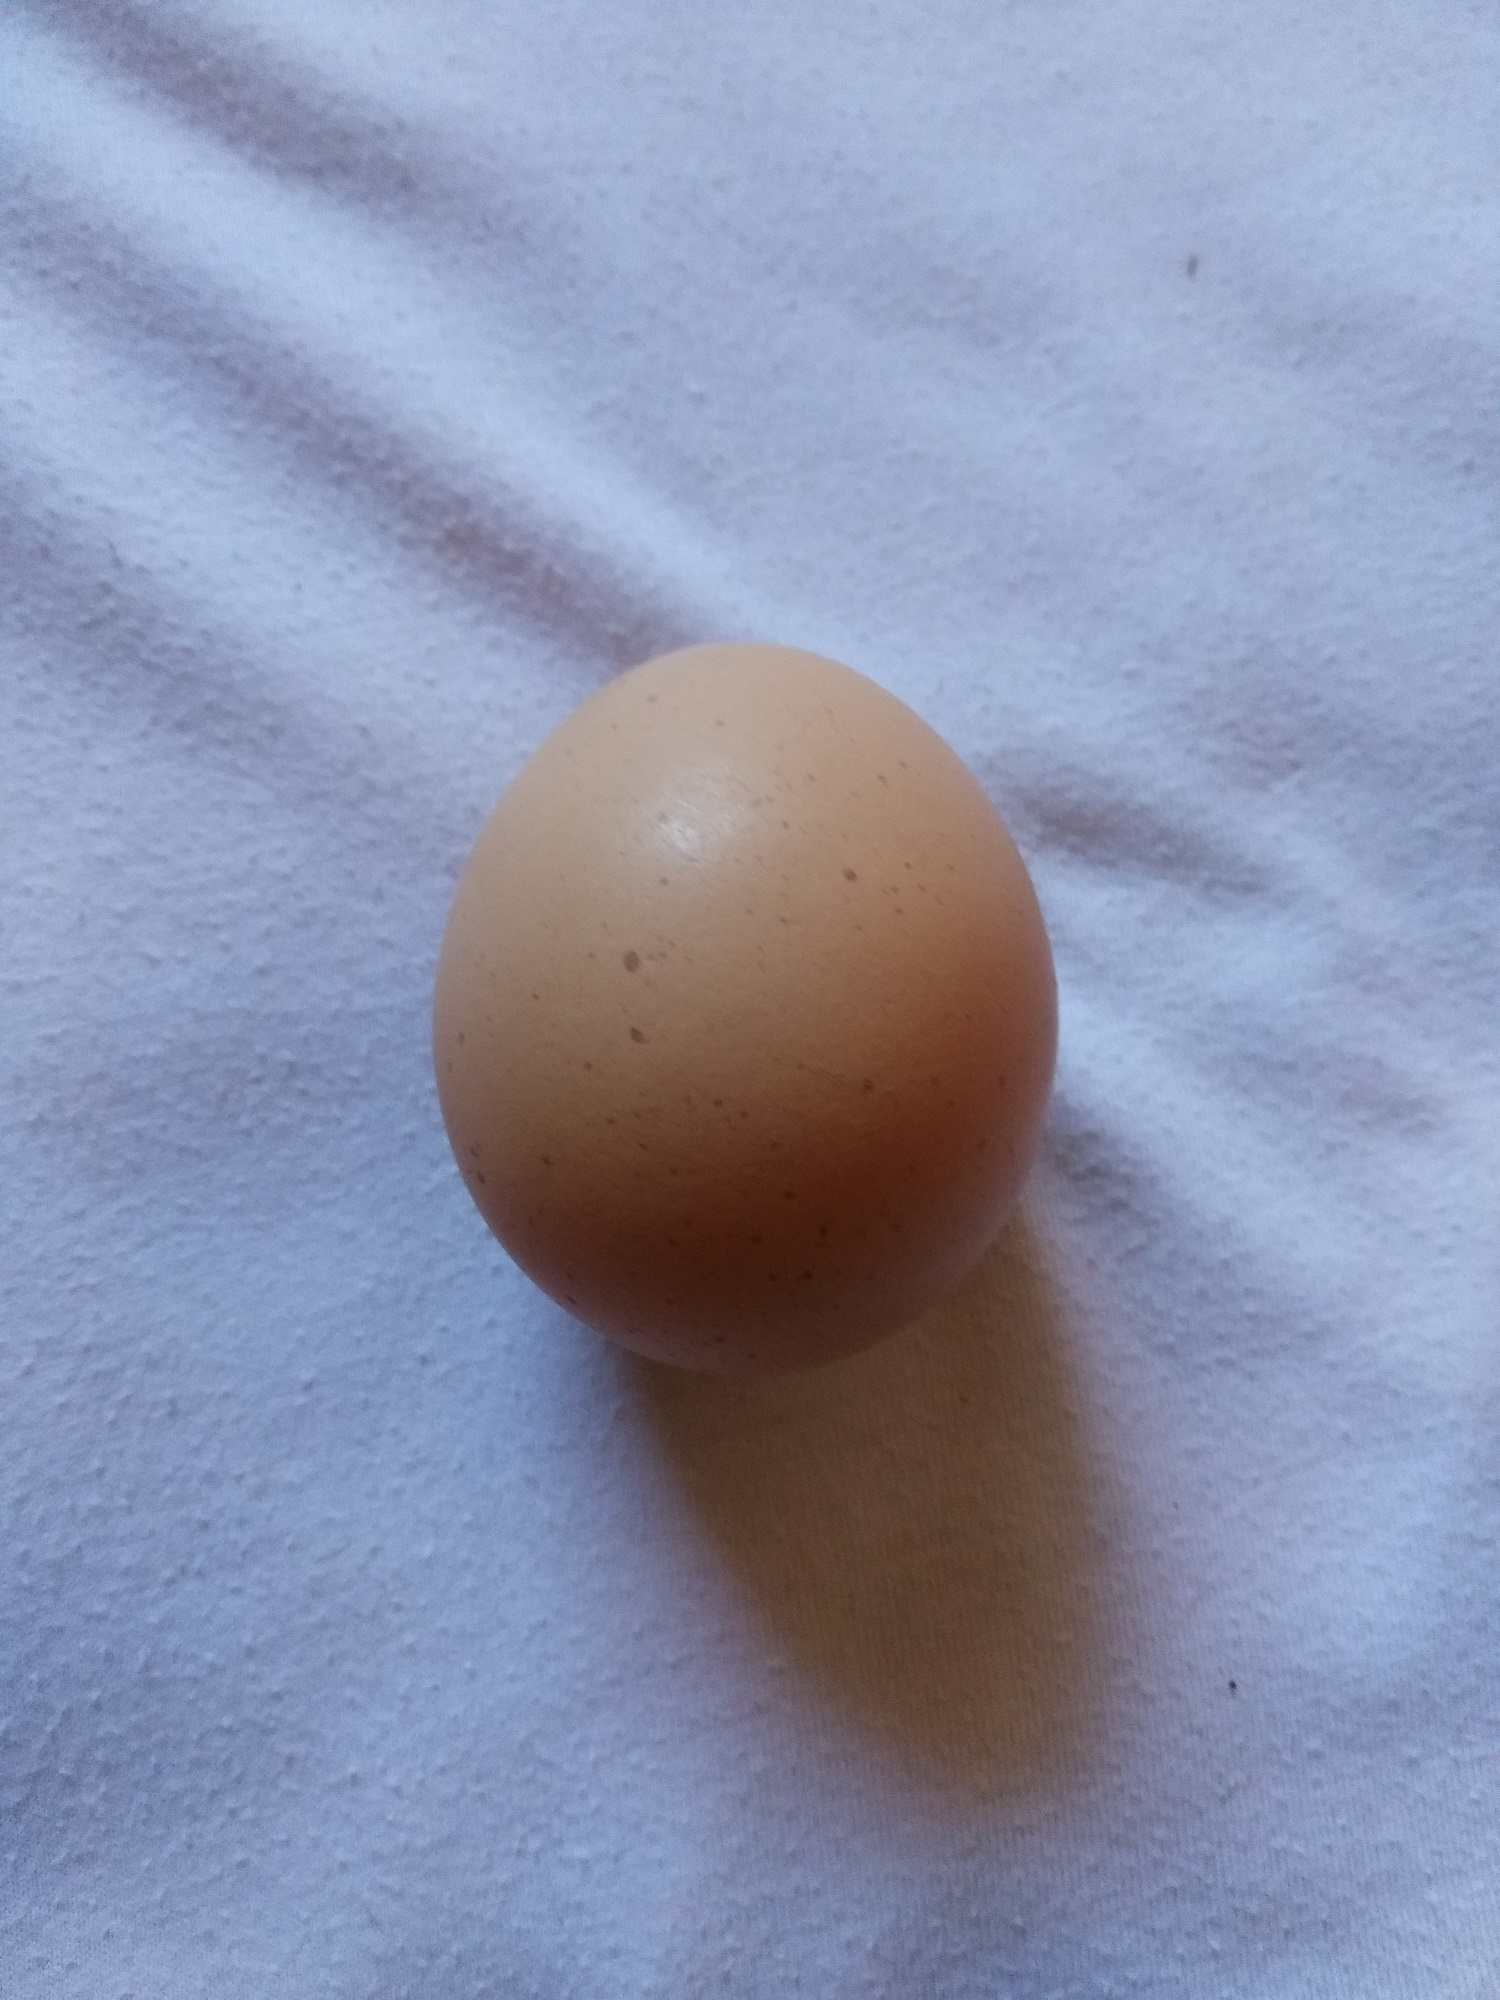Female: (429, 631, 1068, 1381)
